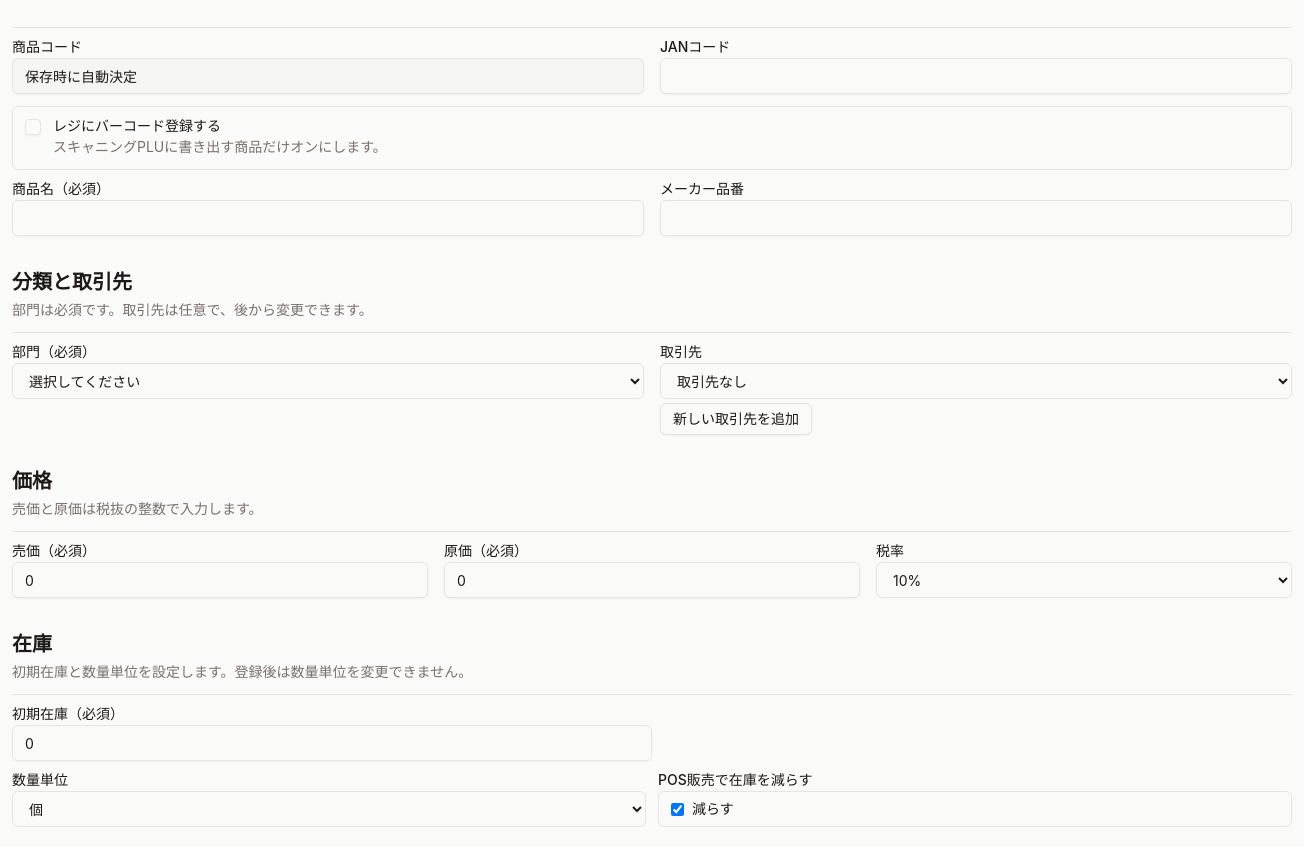
Test: ProductForm (UI-01b) › stateful wrapper (lost-update integration) › pcs→cm→pcs without checkbox: posStockSync restores to true
(page scrolled)
Select "cm" in the dropdown labelled "数量単位". click: (329, 809)
box: [12,791,646,827]
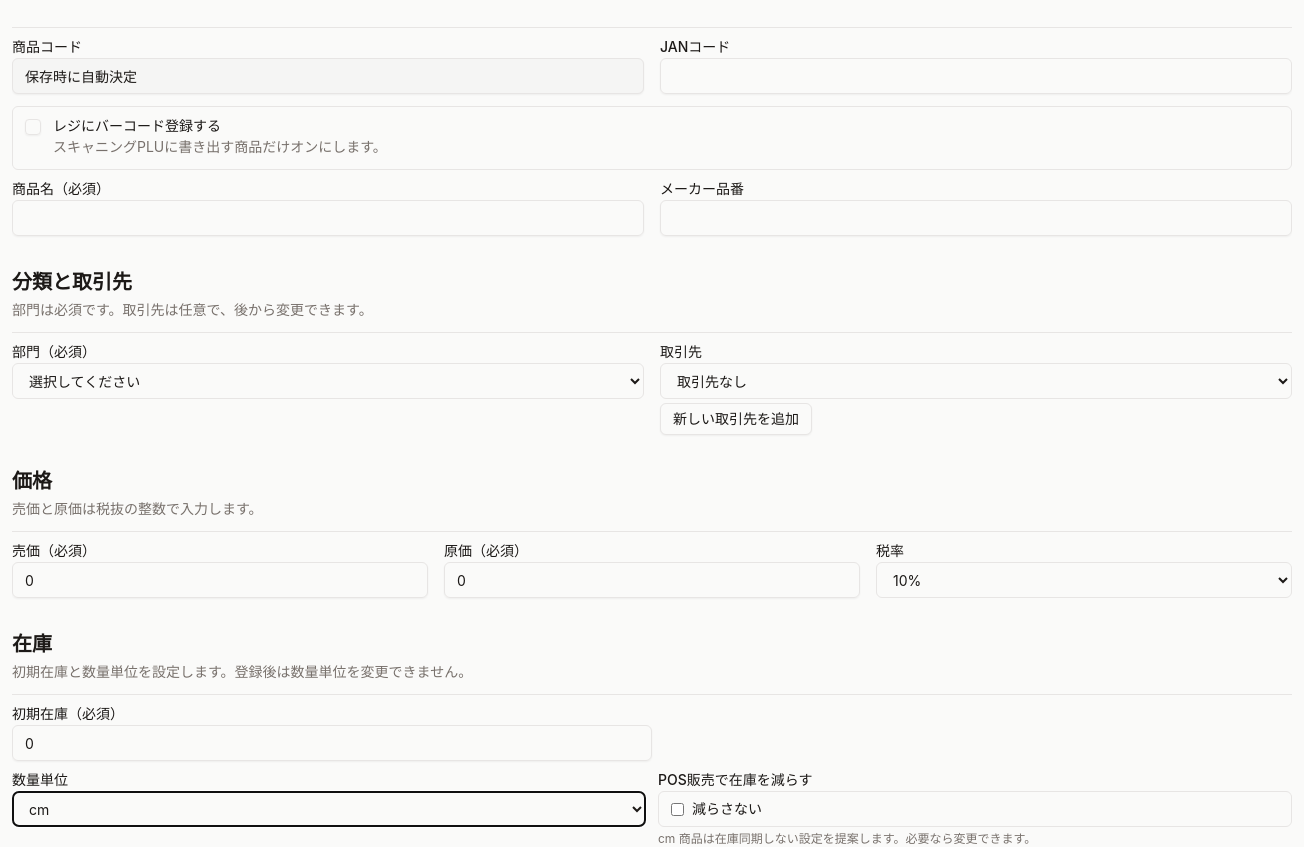
Select "個" in the dropdown labelled "数量単位". click: (329, 809)
box: [12,791,646,827]
(page scrolled)
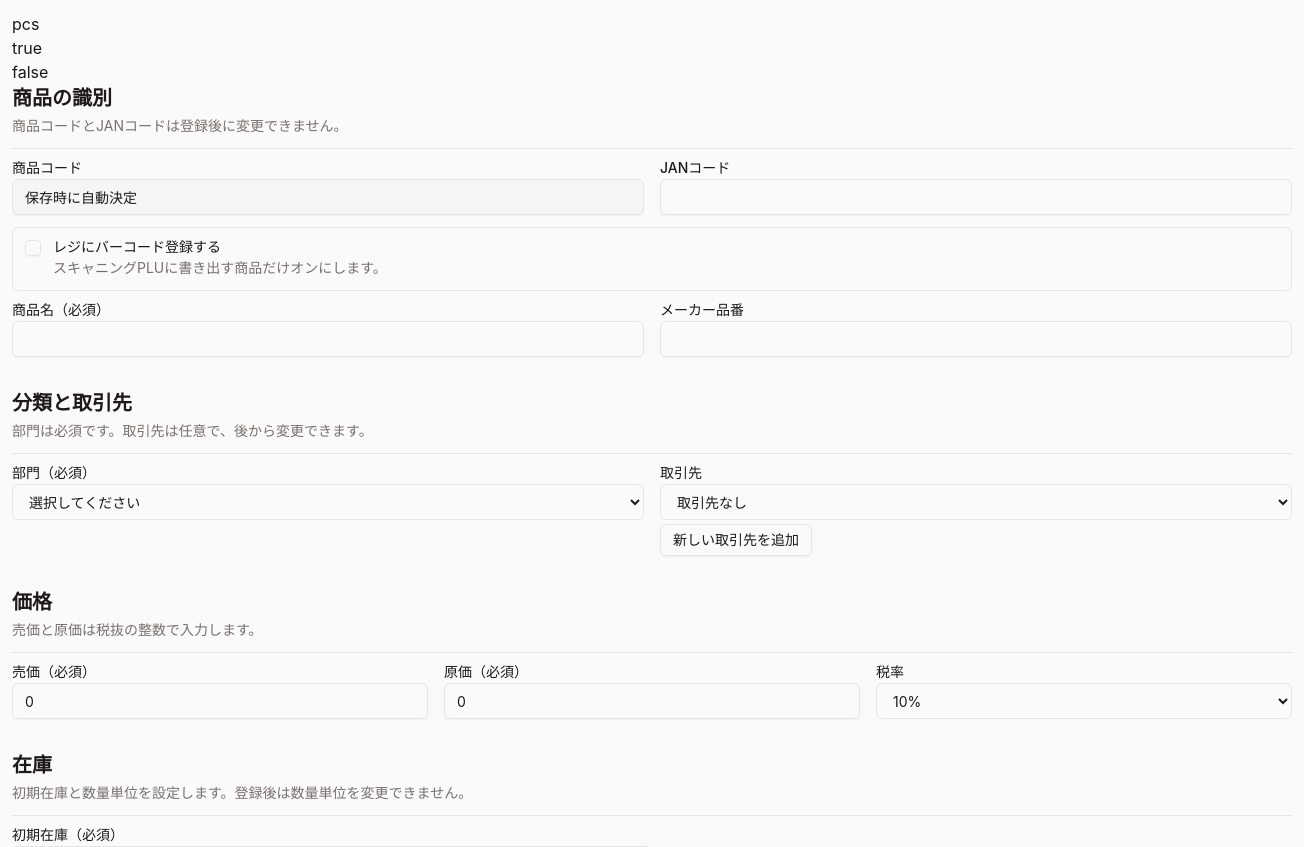
Now the text with test id "stock-unit" reads "pcs", box [12,14,39,34]
Now the text with test id "pos-stock-sync" reads "true", box [12,38,42,58]
Now the text with test id "pos-sync-touched" reads "false", box [12,62,48,82]
